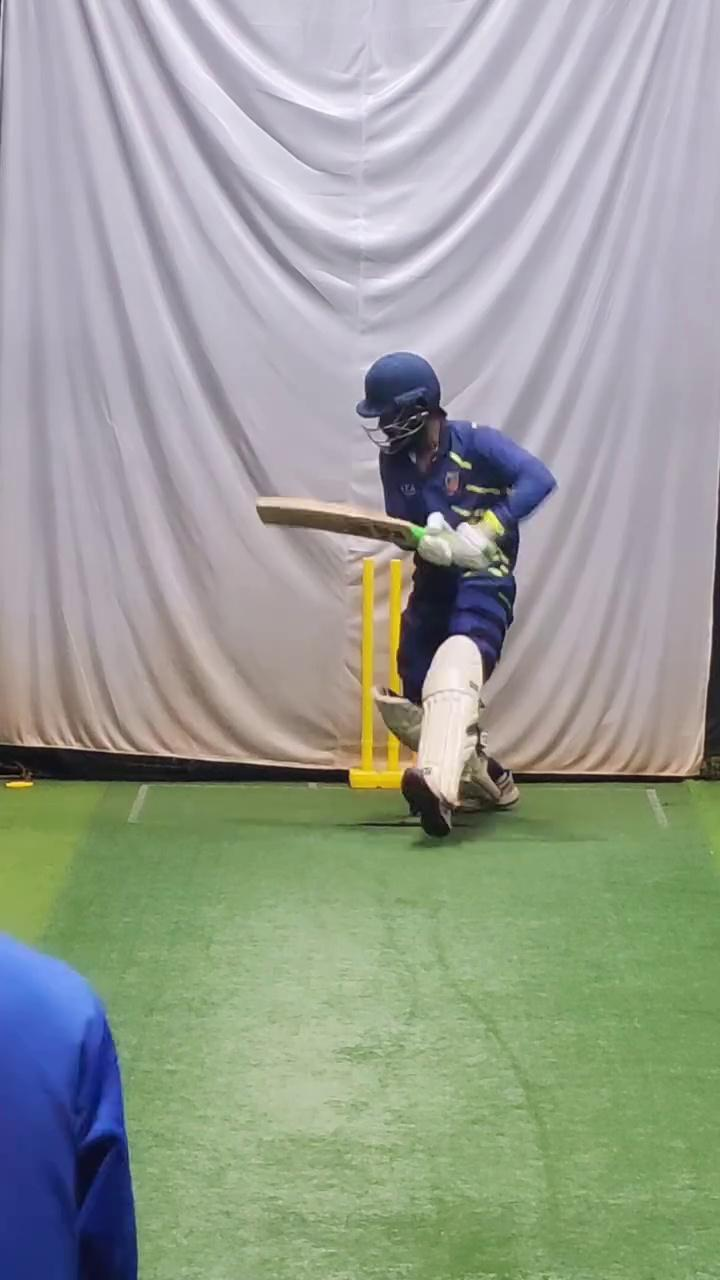bat: (245, 491, 420, 550)
